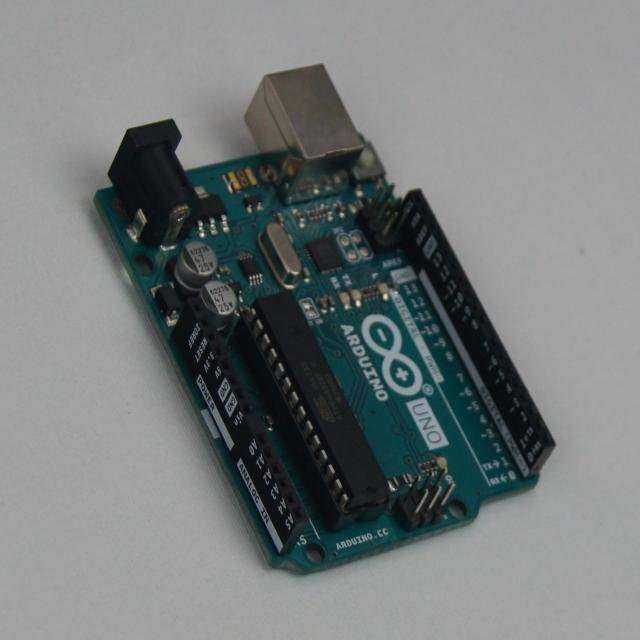Arduino Uno -Green-: (96, 65, 555, 572)
